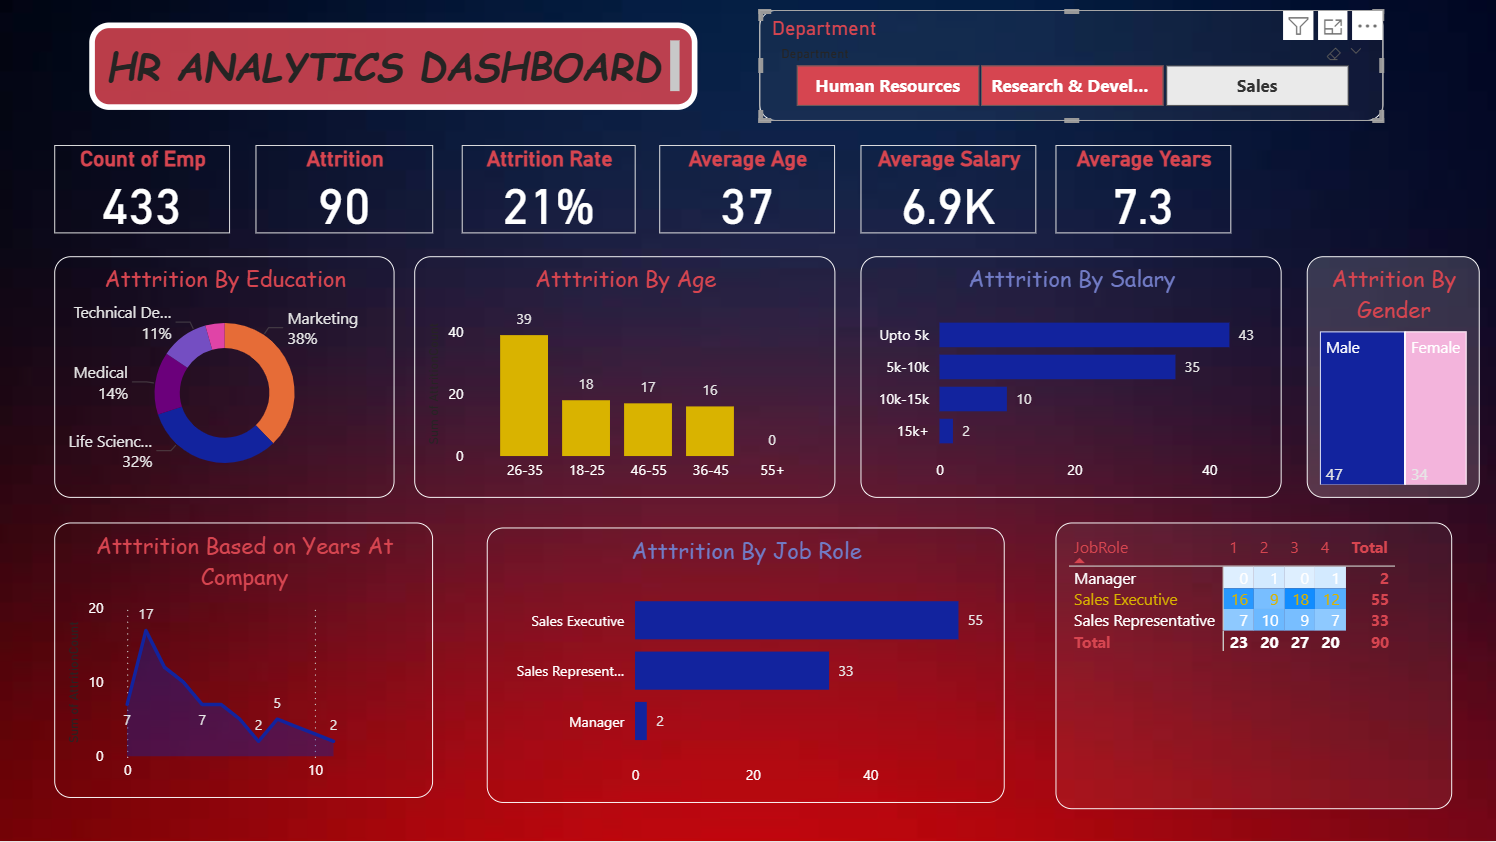

What the dashboard file says about the page in this screenshot:
{"tool":"powerbi","page":{"name":"Page 1","canvas":[1280,720],"ordinal":0},"visuals":[{"type":"card","title":"Count of Emp","fields":{"Values":["CountNonNull(HR_Analytics.EmpID)"]},"box":[52.1,127.6,149.6,75.5],"z":0},{"type":"card","title":"Attrition","fields":{"Values":["Sum(HR_Analytics.AttritionCount)","select"]},"box":[223.7,127.6,150.9,75.5],"z":1000},{"type":"card","title":"Attrition Rate","fields":{"Values":["HR_Analytics.AttritionRate"]},"box":[399.3,127.6,148.2,75.5],"z":2000},{"type":"card","title":"Average Age","fields":{"Values":["Avg(HR_Analytics.Age)"]},"box":[566.7,127.6,149.6,75.5],"z":3000},{"type":"card","title":"Average Years","fields":{"Values":["Avg(HR_Analytics.YearsAtCompany)"]},"box":[904.3,127.6,149.6,75.5],"z":4000},{"type":"card","title":"Average Salary","fields":{"Values":["Avg(HR_Analytics.MonthlyIncome)"]},"box":[738.3,127.6,149.6,75.5],"z":5000},{"type":"donutChart","title":"Atttrition By Education","fields":{"Category":["HR_Analytics.EducationField"],"Y":["Sum(HR_Analytics.AttritionCount)"]},"box":[52.1,222.3,289.5,205.8],"z":6000},{"type":"columnChart","title":"Atttrition By Age","fields":{"Category":["HR_Analytics.AgeGroup"],"Y":["Sum(HR_Analytics.AttritionCount)"]},"box":[358.1,222.3,358.1,205.8],"z":7000},{"type":"pivotTable","fields":{"Rows":["HR_Analytics.JobRole"],"Columns":["HR_Analytics.JobSatisfaction"],"Values":["Sum(HR_Analytics.AttritionCount)"]},"box":[904.3,448.7,337.6,244.3],"z":8000},{"type":"barChart","title":"Atttrition By Salary","fields":{"Category":["HR_Analytics.SalarySlab"],"Y":["Sum(HR_Analytics.AttritionCount)"]},"box":[738.3,222.3,358.1,205.8],"z":9000},{"type":"barChart","title":"Atttrition By Job Role","fields":{"Category":["HR_Analytics.JobRole"],"Y":["Sum(HR_Analytics.AttritionCount)"]},"box":[419.9,452.8,440.5,234.6],"z":10000},{"type":"areaChart","title":"Atttrition Based on Years At Company","fields":{"Category":["HR_Analytics.YearsAtCompany"],"Y":["Sum(HR_Analytics.AttritionCount)"]},"box":[52.1,448.7,322.5,234.6],"z":11000},{"type":"treemap","title":"Attrition By Gender","fields":{"Group":["HR_Analytics.Gender"],"Values":["Sum(HR_Analytics.AttritionCount)"]},"box":[1118.4,222.3,146.8,205.8],"z":12000},{"type":"slicer","title":"Department","fields":{"Values":["HR_Analytics.Department"]},"box":[651.8,12.3,531,94.7],"z":13000},{"type":"textbox","box":[82.3,23.3,517.3,74.1],"z":13001}]}

Visuals, with their boxes in screenshot pixels (x1, y1, x2, y2), scaled from the page's 1280x720 canvas onto the 1496x842 screenshot:
"Count of Emp" card: left=61, top=149, right=236, bottom=238
"Attrition" card: left=261, top=149, right=438, bottom=238
"Attrition Rate" card: left=467, top=149, right=640, bottom=238
"Average Age" card: left=662, top=149, right=837, bottom=238
"Average Years" card: left=1057, top=149, right=1232, bottom=238
"Average Salary" card: left=863, top=149, right=1038, bottom=238
"Atttrition By Education" donutChart: left=61, top=260, right=399, bottom=501
"Atttrition By Age" columnChart: left=419, top=260, right=837, bottom=501
pivotTable - HR_Analytics.JobRole x HR_Analytics.JobSatisfaction: left=1057, top=525, right=1451, bottom=810
"Atttrition By Salary" barChart: left=863, top=260, right=1281, bottom=501
"Atttrition By Job Role" barChart: left=491, top=530, right=1006, bottom=804
"Atttrition Based on Years At Company" areaChart: left=61, top=525, right=438, bottom=799
"Attrition By Gender" treemap: left=1307, top=260, right=1479, bottom=501
"Department" slicer: left=762, top=14, right=1382, bottom=125
textbox: left=96, top=27, right=701, bottom=114
